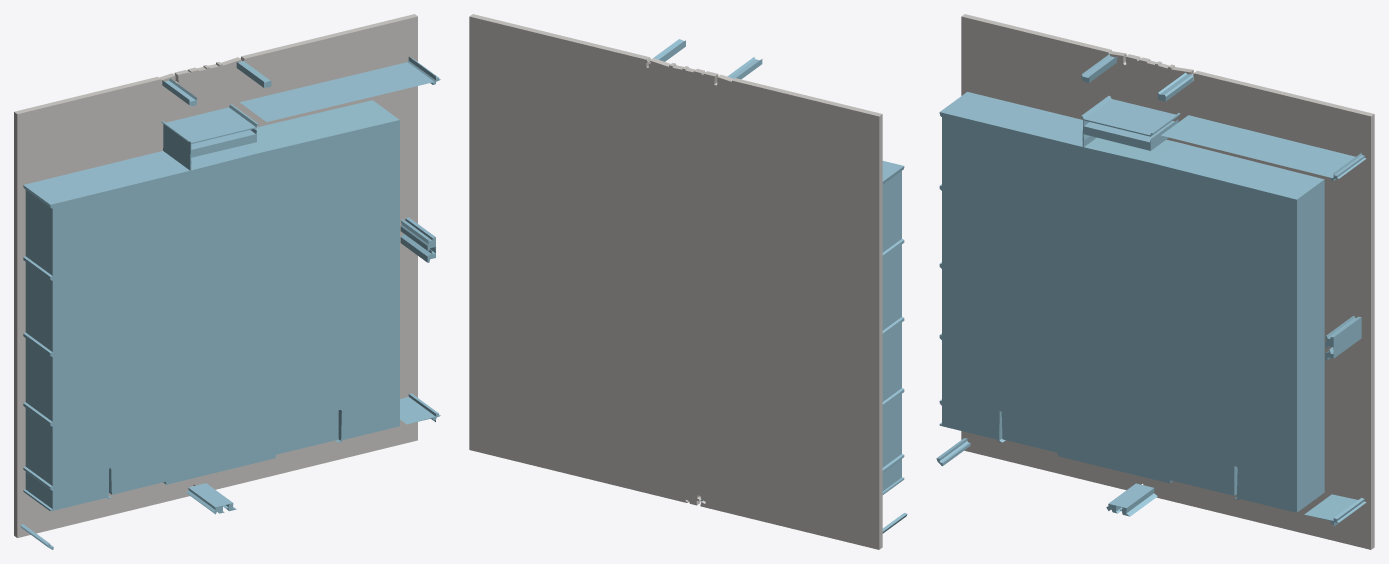
The picture shows the model from 3 angles, left to right: view 1: azimuth 30°, elevation 25°; view 2: azimuth 150°, elevation 25°; view 3: azimuth 330°, elevation 25°; orthographic projection. The views are drawn at different scales.
Parts seen in each view (by area): view 1: world; view 2: world; view 3: world.
Boxes of the visible parts, x1=… form: world: x1=14, y1=14, x2=440, y2=549; world: x1=469, y1=14, x2=907, y2=549; world: x1=936, y1=14, x2=1374, y2=549.
Bounding box in the file's own units: 10.23 × 10.34 × 1.35.
